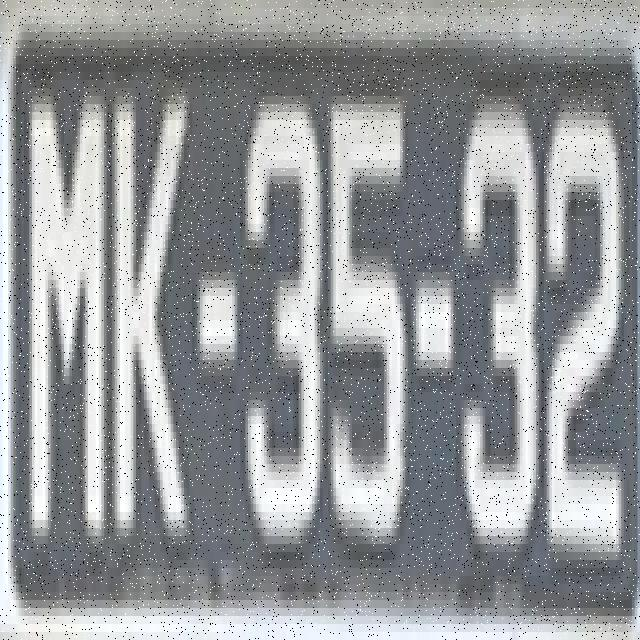licenseplate: (16, 42, 632, 614)
